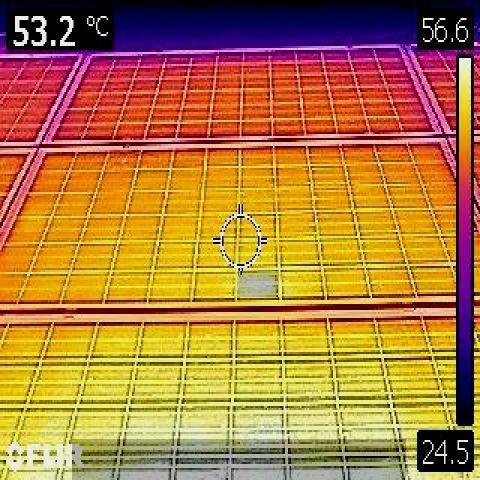fault: (72, 439, 406, 480), (240, 271, 280, 298)
